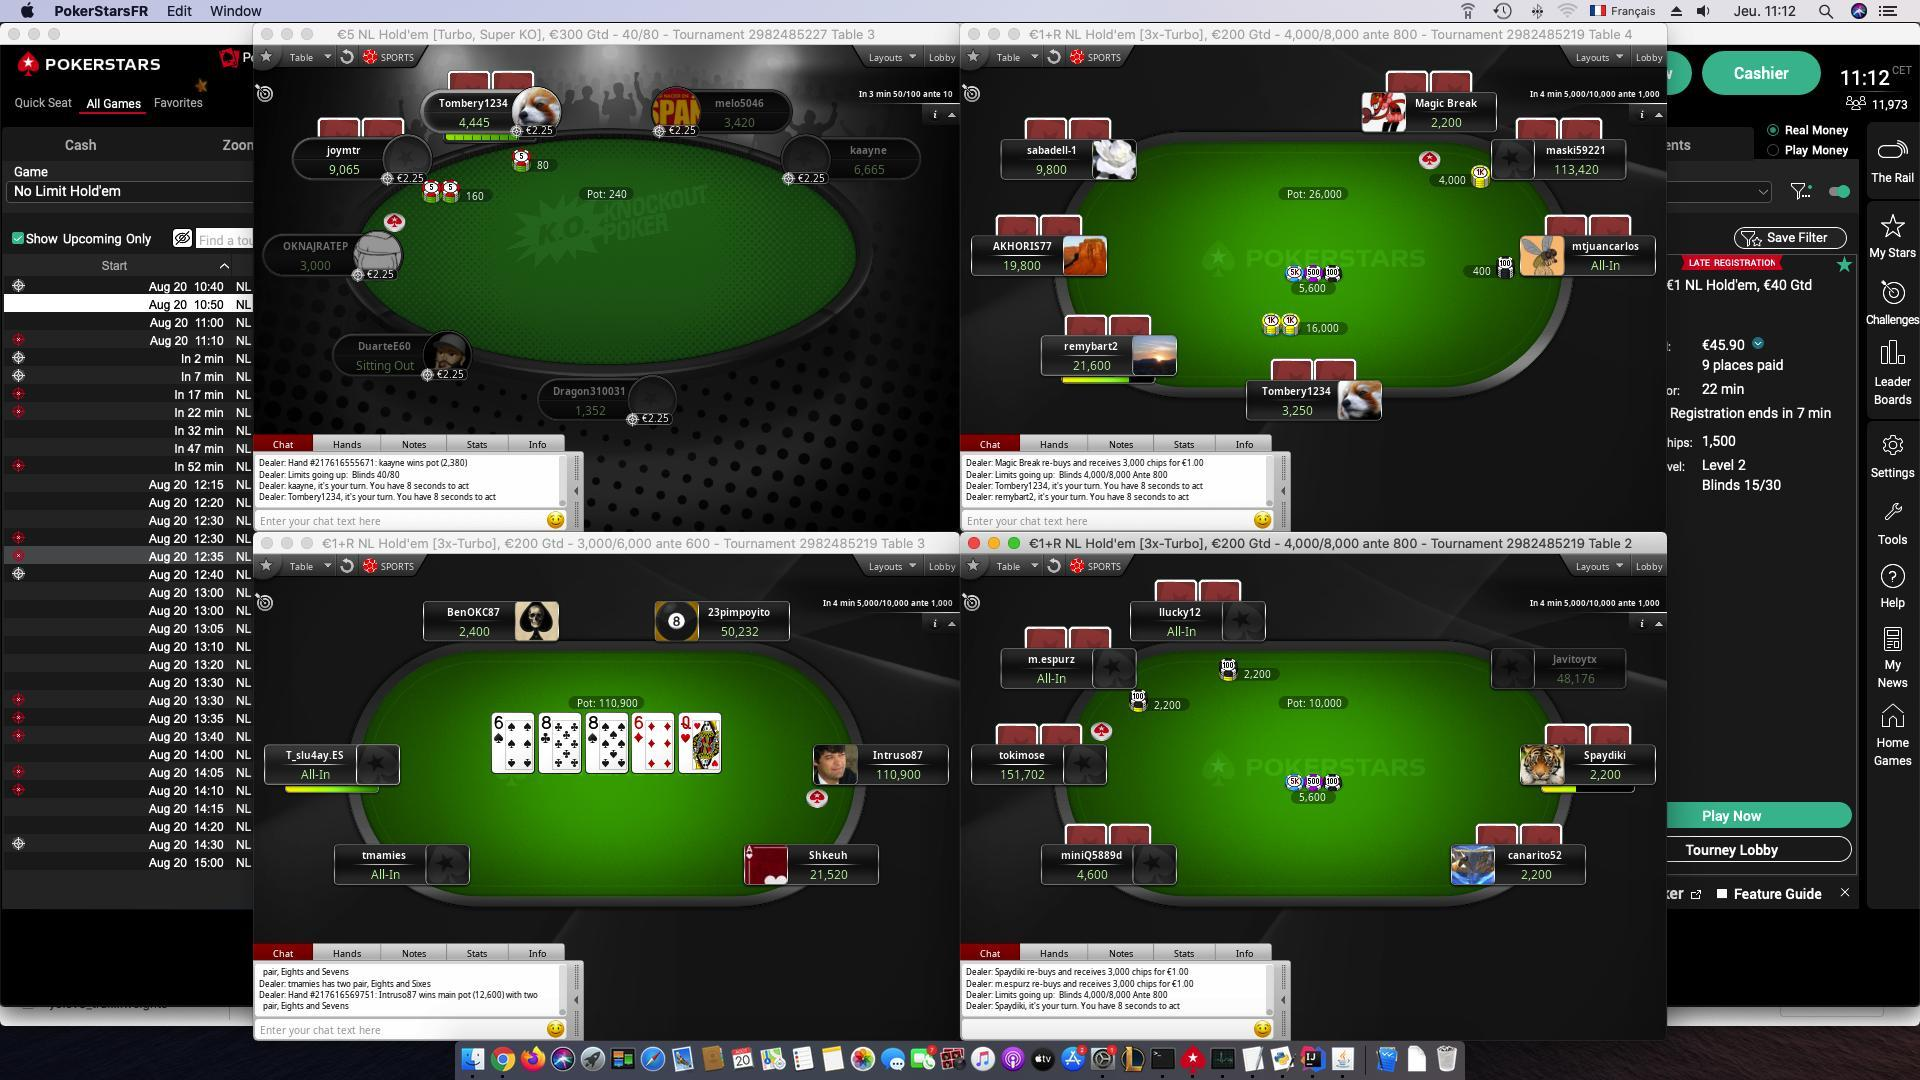6D: (629, 711, 647, 745)
6S: (491, 711, 506, 746)
8C: (537, 708, 554, 745)
8S: (583, 712, 604, 746)
QH: (676, 713, 692, 746)
